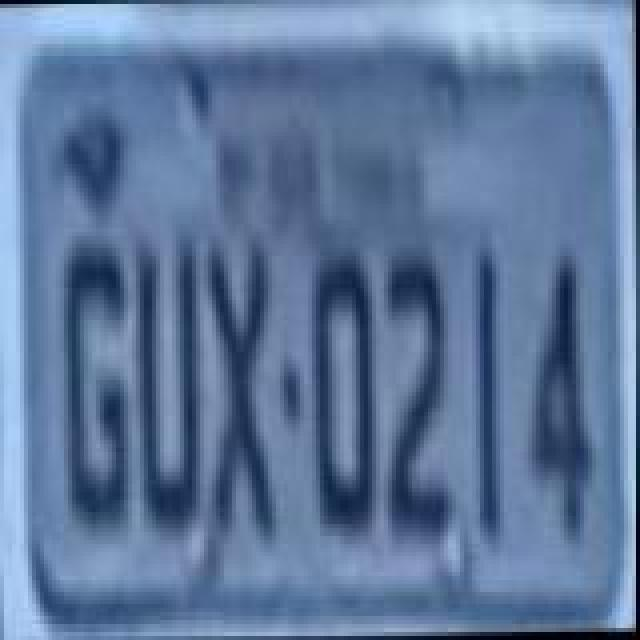1: (474, 250, 502, 542)
2: (384, 256, 456, 544)
4: (524, 252, 596, 548)
G: (58, 240, 134, 536)
O: (310, 252, 378, 544)
U: (134, 232, 210, 536)
X: (206, 236, 282, 548)
